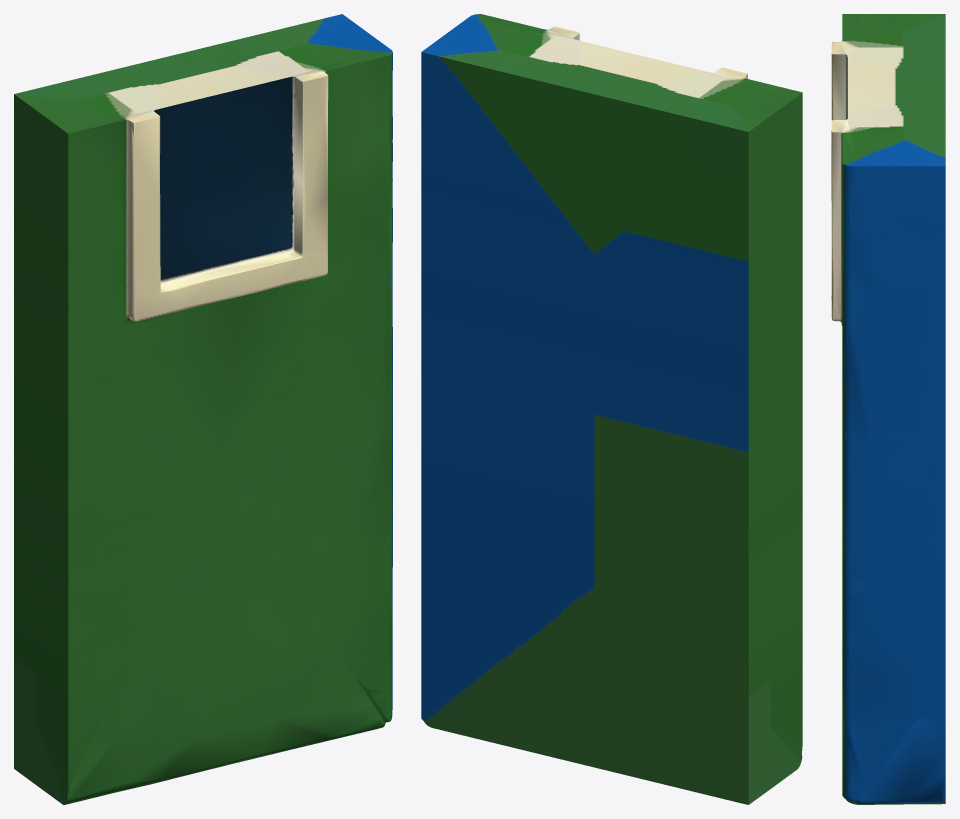
Rendered from 2-ground-floor-front-right.fbx.
3 renders of one model, left to right at view 1: azimuth 30°, elevation 25°; view 2: azimuth 150°, elevation 25°; view 3: azimuth 270°, elevation 25°, orthographic. The views are drawn at different scales.
Parts seen in each view (by area): view 1: ground-floor-front-right; view 2: ground-floor-front-right; view 3: ground-floor-front-right.
Part boxes in pixels (x1,y1,x2,y2): ground-floor-front-right: (14, 14, 392, 804); ground-floor-front-right: (421, 14, 802, 804); ground-floor-front-right: (831, 14, 945, 804).
Size of the model in its own units: 5292 by 10386 by 1673.
1 material, 1 textured.
